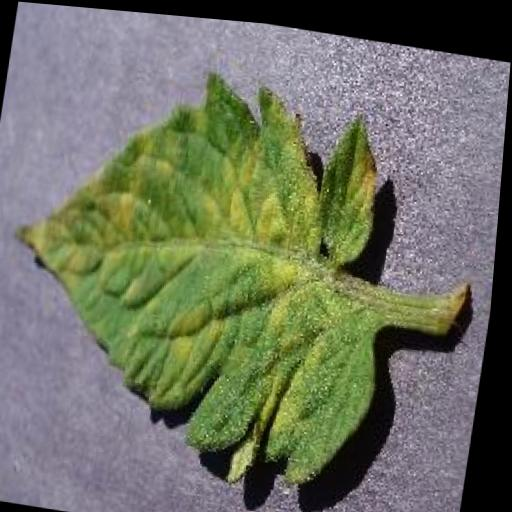Leaf Mold: (0, 37, 423, 496)
